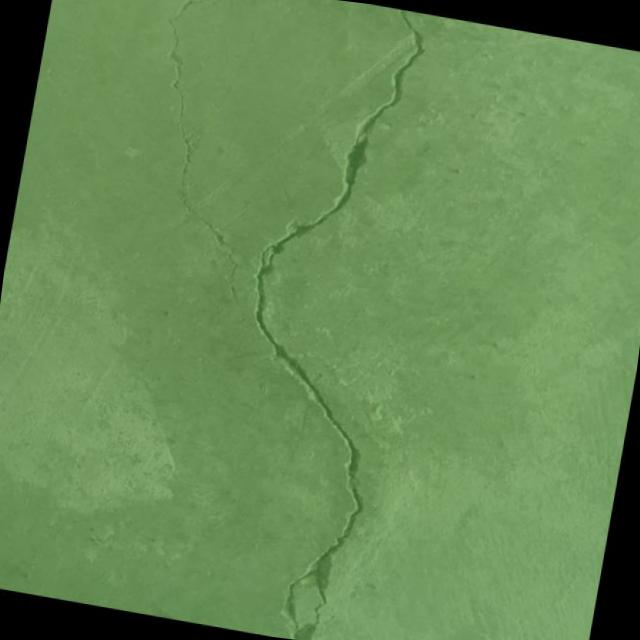crack: (193, 0, 450, 640), (118, 0, 301, 323)
